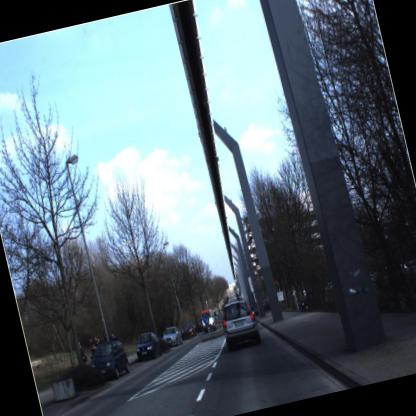mandatory: (198, 311, 212, 329)
